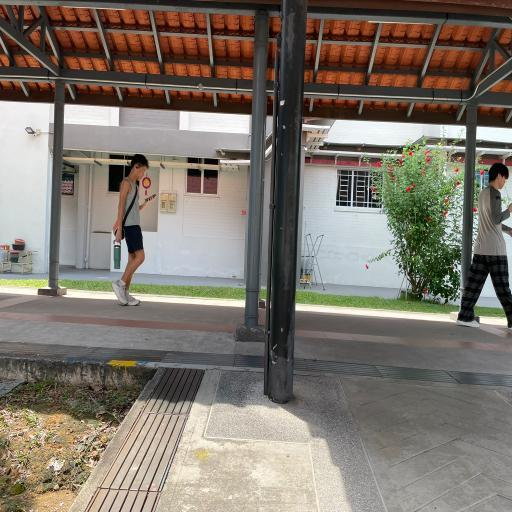person_right: (462, 157, 512, 329), (110, 152, 152, 310)
